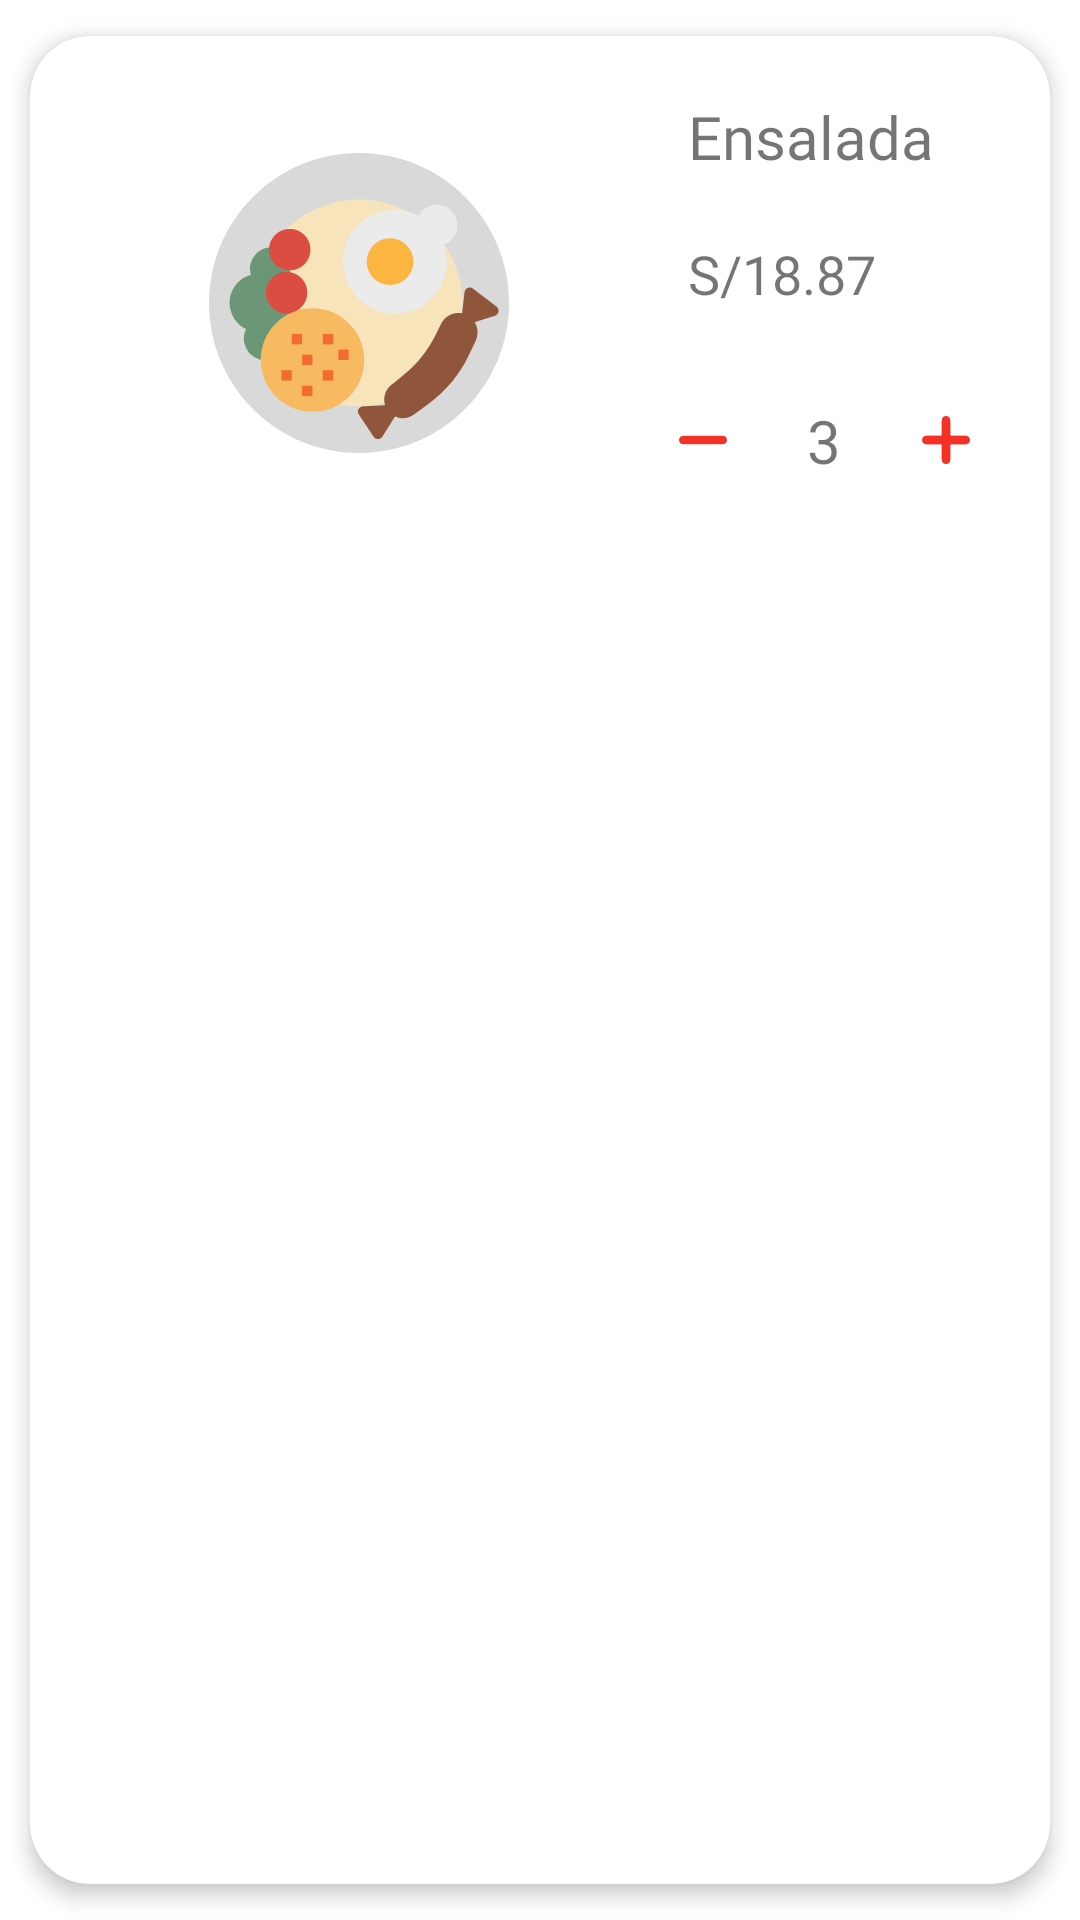

Icons on this 1080px×1920px Android screen, each with the point to tap as (x=x, y=y):
add: (x=946, y=440)
breakfast: (x=359, y=303)
minus: (x=703, y=440)
